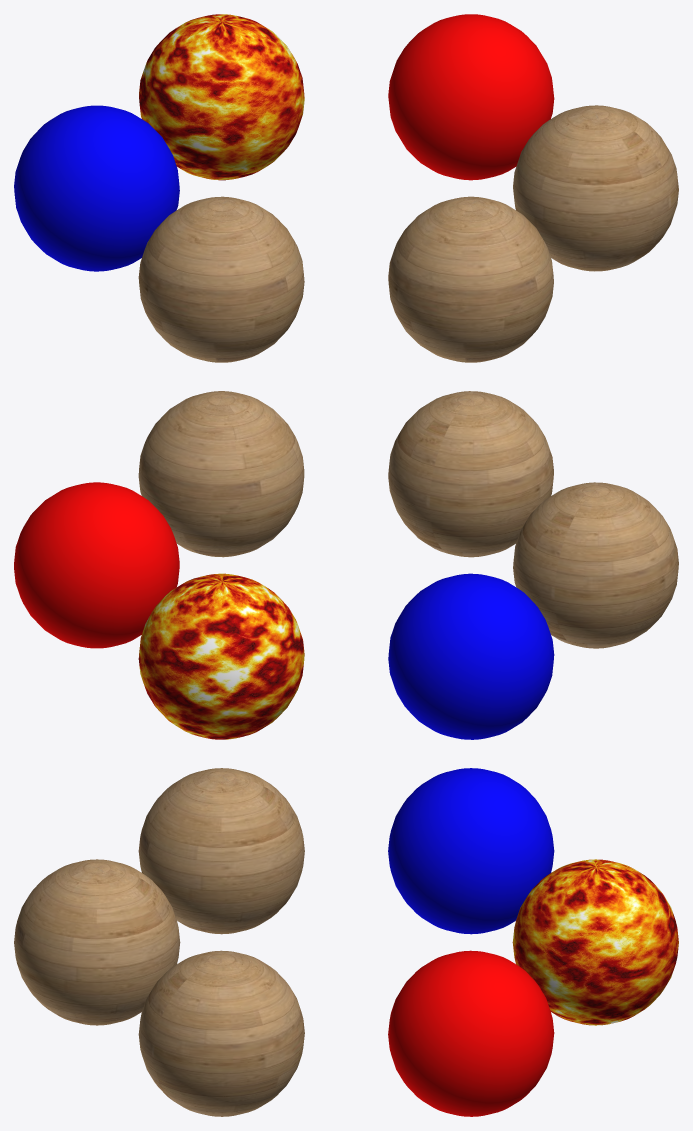
The model's file is PBR_Textures.FBX.
The picture shows the model from 3 angles, top to bottom: view 1: azimuth 30°, elevation 25°; view 2: azimuth 150°, elevation 25°; view 3: azimuth 270°, elevation 25°; orthographic projection.
Parts seen in each view (by area): view 1: SphereBaseColor, SphereBaseColorAO, SphereEmissive, SphereBaseColorAlpha, SphereMetallicRoughness, SphereBump; view 2: SphereBump, SphereEmissive, SphereMetallicRoughness, SphereBaseColor, SphereBaseColorAlpha, SphereBaseColorAO; view 3: SphereBaseColorAlpha, SphereMetallicRoughness, SphereEmissive, SphereBaseColor, SphereBump, SphereBaseColorAO.
Boxes of the visible parts, x1=… form: SphereBaseColor: x1=388, y1=196, x2=553, y2=362; SphereBaseColorAO: x1=138, y1=196, x2=304, y2=362; SphereEmissive: x1=139, y1=14, x2=304, y2=180; SphereBaseColorAlpha: x1=513, y1=105, x2=678, y2=271; SphereMetallicRoughness: x1=388, y1=14, x2=554, y2=180; SphereBump: x1=14, y1=105, x2=179, y2=271; SphereBump: x1=388, y1=573, x2=554, y2=739; SphereEmissive: x1=138, y1=573, x2=304, y2=739; SphereMetallicRoughness: x1=14, y1=482, x2=179, y2=648; SphereBaseColor: x1=388, y1=391, x2=553, y2=557; SphereBaseColorAlpha: x1=138, y1=391, x2=304, y2=557; SphereBaseColorAO: x1=513, y1=482, x2=678, y2=648; SphereBaseColorAlpha: x1=138, y1=950, x2=304, y2=1116; SphereMetallicRoughness: x1=388, y1=950, x2=554, y2=1116; SphereEmissive: x1=512, y1=859, x2=678, y2=1025; SphereBaseColor: x1=14, y1=859, x2=180, y2=1025; SphereBump: x1=388, y1=768, x2=554, y2=934; SphereBaseColorAO: x1=138, y1=768, x2=304, y2=934.
Size of the model in its own units: 7.2 by 2 by 8.
Materials: 6 (4 with a texture image).
